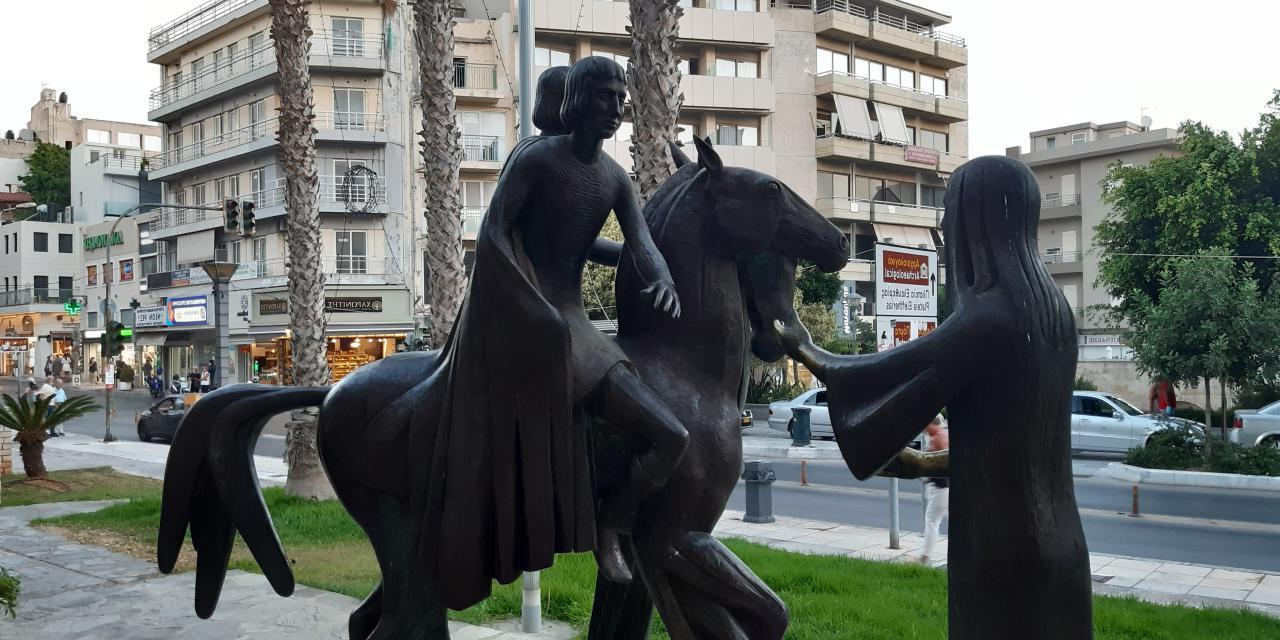Aretousa: (156, 54, 1095, 640)
